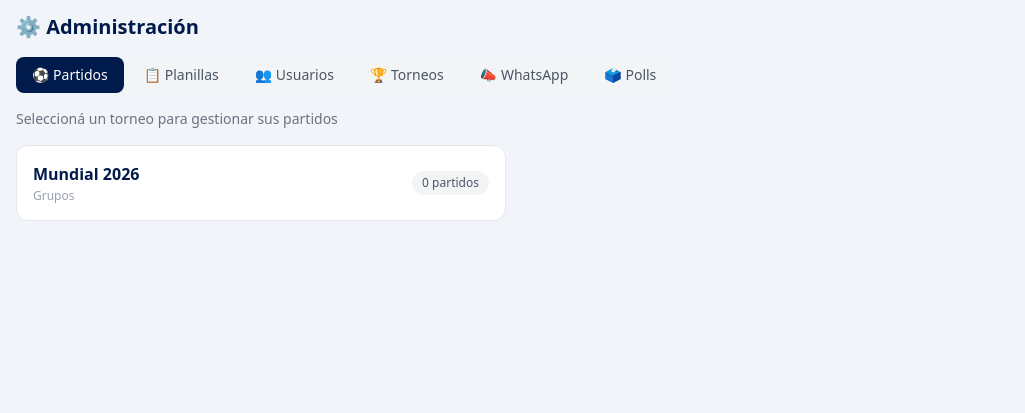
Test case: Admin — PartidosTab › tabla vacía cuando el torneo no tiene partidos
Click the text "Mundial 2026": (86, 174) [33,162,139,186]
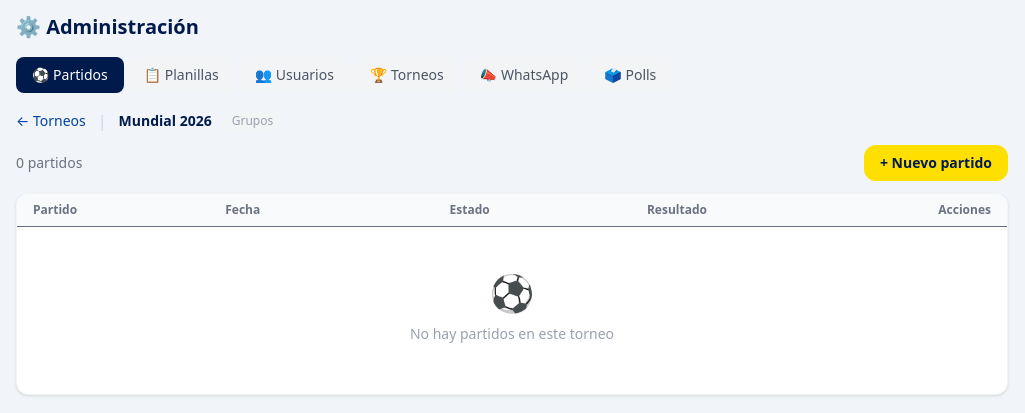
Check: the text "No hay partidos en este torneo" is shown, box [410,323,614,346]
